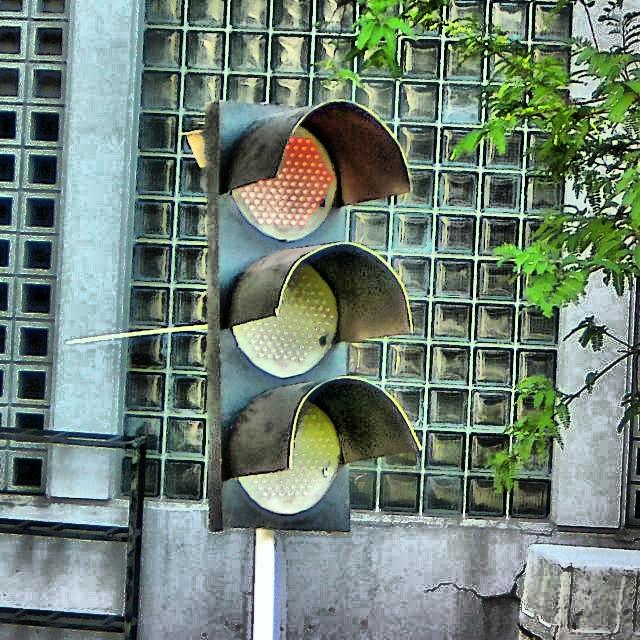red: (208, 102, 388, 533)
